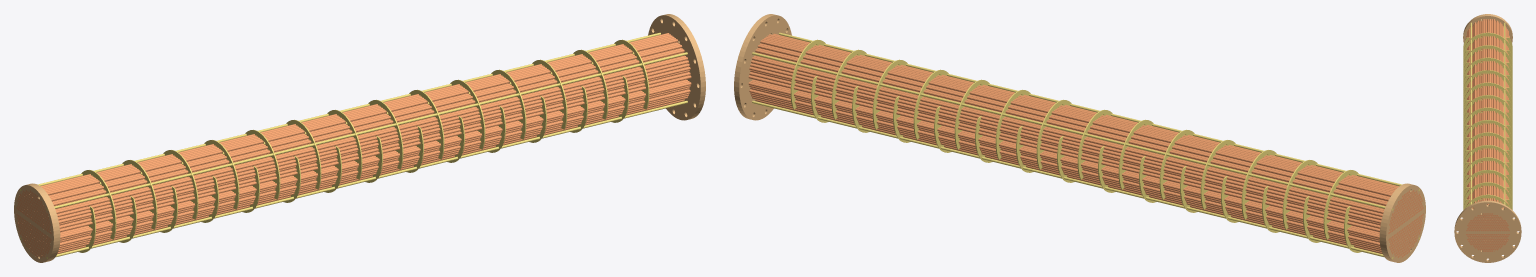
File: AM18SFD0AA_Tube_Bundle.glb
3 views of the same model, side by side, from view 1: azimuth 30°, elevation 25°; view 2: azimuth 150°, elevation 25°; view 3: azimuth 270°, elevation 25° (orthographic). The views are drawn at different scales.
Parts seen in each view (by area): view 1: 10_Copper_Tubes_354, 9_Baffles_Serre, 5_Tubesheet_Floating, 4_Tubesheet_Stationary; view 2: 10_Copper_Tubes_354, 9_Baffles_Serre, 5_Tubesheet_Floating, 4_Tubesheet_Stationary; view 3: 10_Copper_Tubes_354, 9_Baffles_Serre, 4_Tubesheet_Stationary, 5_Tubesheet_Floating.
Part boxes in pixels (bbox=[...]): 10_Copper_Tubes_354: bbox=[16, 33, 691, 257]; 9_Baffles_Serre: bbox=[20, 32, 687, 258]; 5_Tubesheet_Floating: bbox=[14, 183, 60, 262]; 4_Tubesheet_Stationary: bbox=[648, 14, 705, 120]; 10_Copper_Tubes_354: bbox=[748, 33, 1423, 258]; 9_Baffles_Serre: bbox=[752, 32, 1419, 258]; 5_Tubesheet_Floating: bbox=[1379, 183, 1425, 262]; 4_Tubesheet_Stationary: bbox=[734, 14, 791, 120]; 10_Copper_Tubes_354: bbox=[1466, 19, 1509, 251]; 9_Baffles_Serre: bbox=[1463, 22, 1512, 209]; 4_Tubesheet_Stationary: bbox=[1454, 200, 1521, 262]; 5_Tubesheet_Floating: bbox=[1463, 14, 1512, 43].
Size of the model in its own units: 2 by 0.289 by 0.289.
